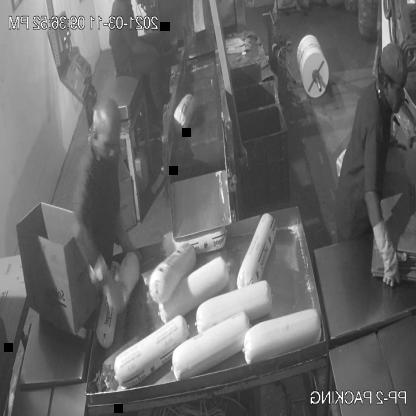glove: (373, 210, 414, 293), (85, 251, 126, 320)
